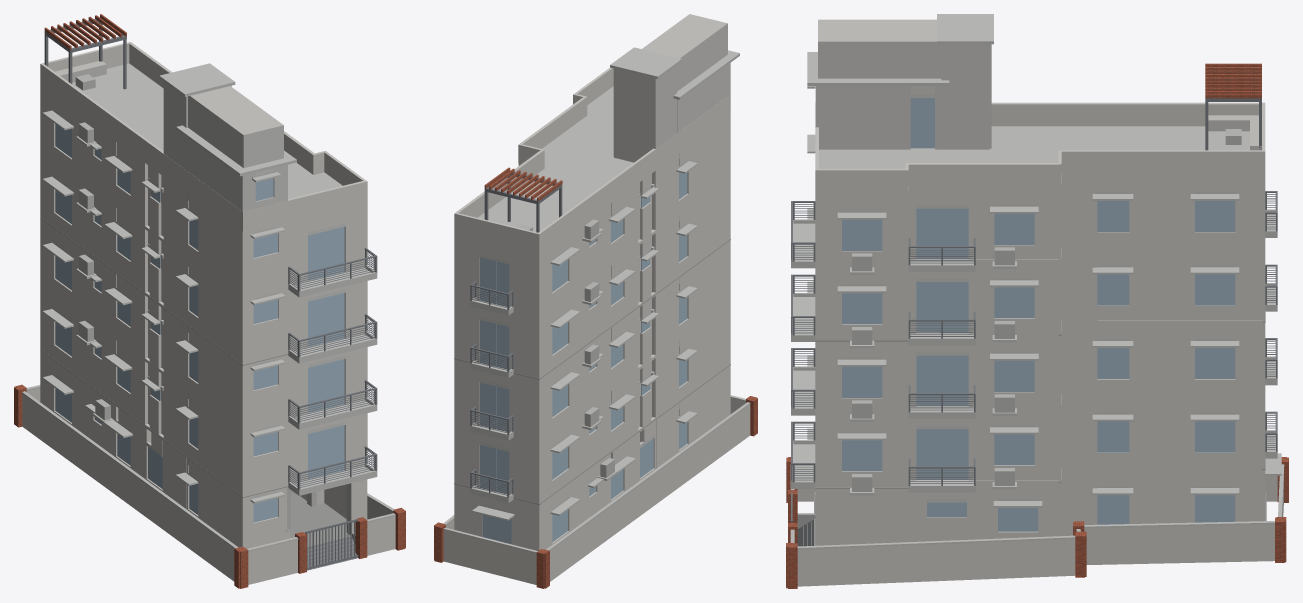
3 renders of one model, left to right at view 1: azimuth 30°, elevation 25°; view 2: azimuth 150°, elevation 25°; view 3: azimuth 270°, elevation 25°, orthographic. The views are drawn at different scales.
Parts seen in each view (by area): view 1: BOUNDARY#226, ROOF/water_tank#1505, ROOF/parapet#1480, 4TH_FLOOR/wall#1242, 1ST_FLOOR/wall#310, 3RD_FLOOR/wall#934, 2ND_FLOOR/wall#618, ROOF/parapet#1478, ROOF/slab#1540, GROUND_FLOOR/core_wall#122, ROOF/stair_room#1487, 4TH_FLOOR/wall#1234 (+75 smaller); view 2: BOUNDARY#226, ROOF/parapet#1480, ROOF/lift_head#1506, ROOF/water_tank#1505, BOUNDARY#222, 1ST_FLOOR/wall#310, 3RD_FLOOR/wall#934, 2ND_FLOOR/wall#618, 4TH_FLOOR/wall#1242, ROOF/slab#1538, 4TH_FLOOR/wall#1323, GROUND_FLOOR/core_wall#122 (+64 smaller); view 3: BOUNDARY#210, ROOF/water_tank#1505, BOUNDARY#218, ROOF/stair_room#1488, ROOF/parapet#1480, ROOF/lift_head#1508, GROUND_FLOOR/full_wall#165, ROOF/parapet#1484, 1ST_FLOOR/wall#382, 3RD_FLOOR/wall#1006, 2ND_FLOOR/wall#690, 4TH_FLOOR/wall#1314 (+89 smaller).
Boxes of the visible parts, x1,y1,x2,y2 form: BOUNDARY#226: [22, 394, 234, 581]; ROOF/water_tank#1505: [188, 86, 283, 167]; ROOF/parapet#1480: [41, 64, 241, 230]; 4TH_FLOOR/wall#1242: [198, 202, 241, 295]; 1ST_FLOOR/wall#310: [198, 401, 241, 494]; 3RD_FLOOR/wall#934: [198, 268, 241, 361]; 2ND_FLOOR/wall#618: [198, 335, 241, 428]; ROOF/parapet#1478: [242, 180, 367, 231]; ROOF/slab#1540: [72, 63, 163, 110]; GROUND_FLOOR/core_wall#122: [202, 469, 242, 547]; ROOF/stair_room#1487: [186, 137, 241, 210]; 4TH_FLOOR/wall#1234: [278, 218, 307, 288]; BOUNDARY#226: [550, 405, 750, 581]; ROOF/parapet#1480: [538, 95, 729, 251]; ROOF/lift_head#1506: [614, 68, 656, 162]; ROOF/water_tank#1505: [642, 14, 727, 91]; BOUNDARY#222: [443, 530, 536, 584]; 1ST_FLOOR/wall#310: [687, 304, 729, 393]; 3RD_FLOOR/wall#934: [687, 179, 729, 268]; 2ND_FLOOR/wall#618: [687, 242, 729, 330]; 4TH_FLOOR/wall#1242: [687, 117, 729, 205]; ROOF/slab#1538: [542, 142, 633, 184]; 4TH_FLOOR/wall#1323: [509, 248, 540, 315]; GROUND_FLOOR/core_wall#122: [692, 366, 730, 441]; BOUNDARY#210: [797, 539, 1075, 586]; ROOF/water_tank#1505: [818, 19, 941, 78]; BOUNDARY#218: [1084, 524, 1274, 564]; ROOF/stair_room#1488: [815, 86, 910, 149]; ROOF/parapet#1480: [991, 102, 1262, 126]; ROOF/lift_head#1508: [941, 44, 989, 149]; GROUND_FLOOR/full_wall#165: [815, 489, 908, 545]; ROOF/parapet#1484: [1058, 150, 1262, 173]; 1ST_FLOOR/wall#382: [1129, 397, 1194, 467]; 3RD_FLOOR/wall#1006: [1129, 250, 1194, 320]; 2ND_FLOOR/wall#690: [1129, 324, 1194, 393]; 4TH_FLOOR/wall#1314: [1129, 177, 1194, 246].
Bounding box in the file's own units: 8.06 × 20.37 × 18.89.
Materials: 1 (1 with a texture image).
